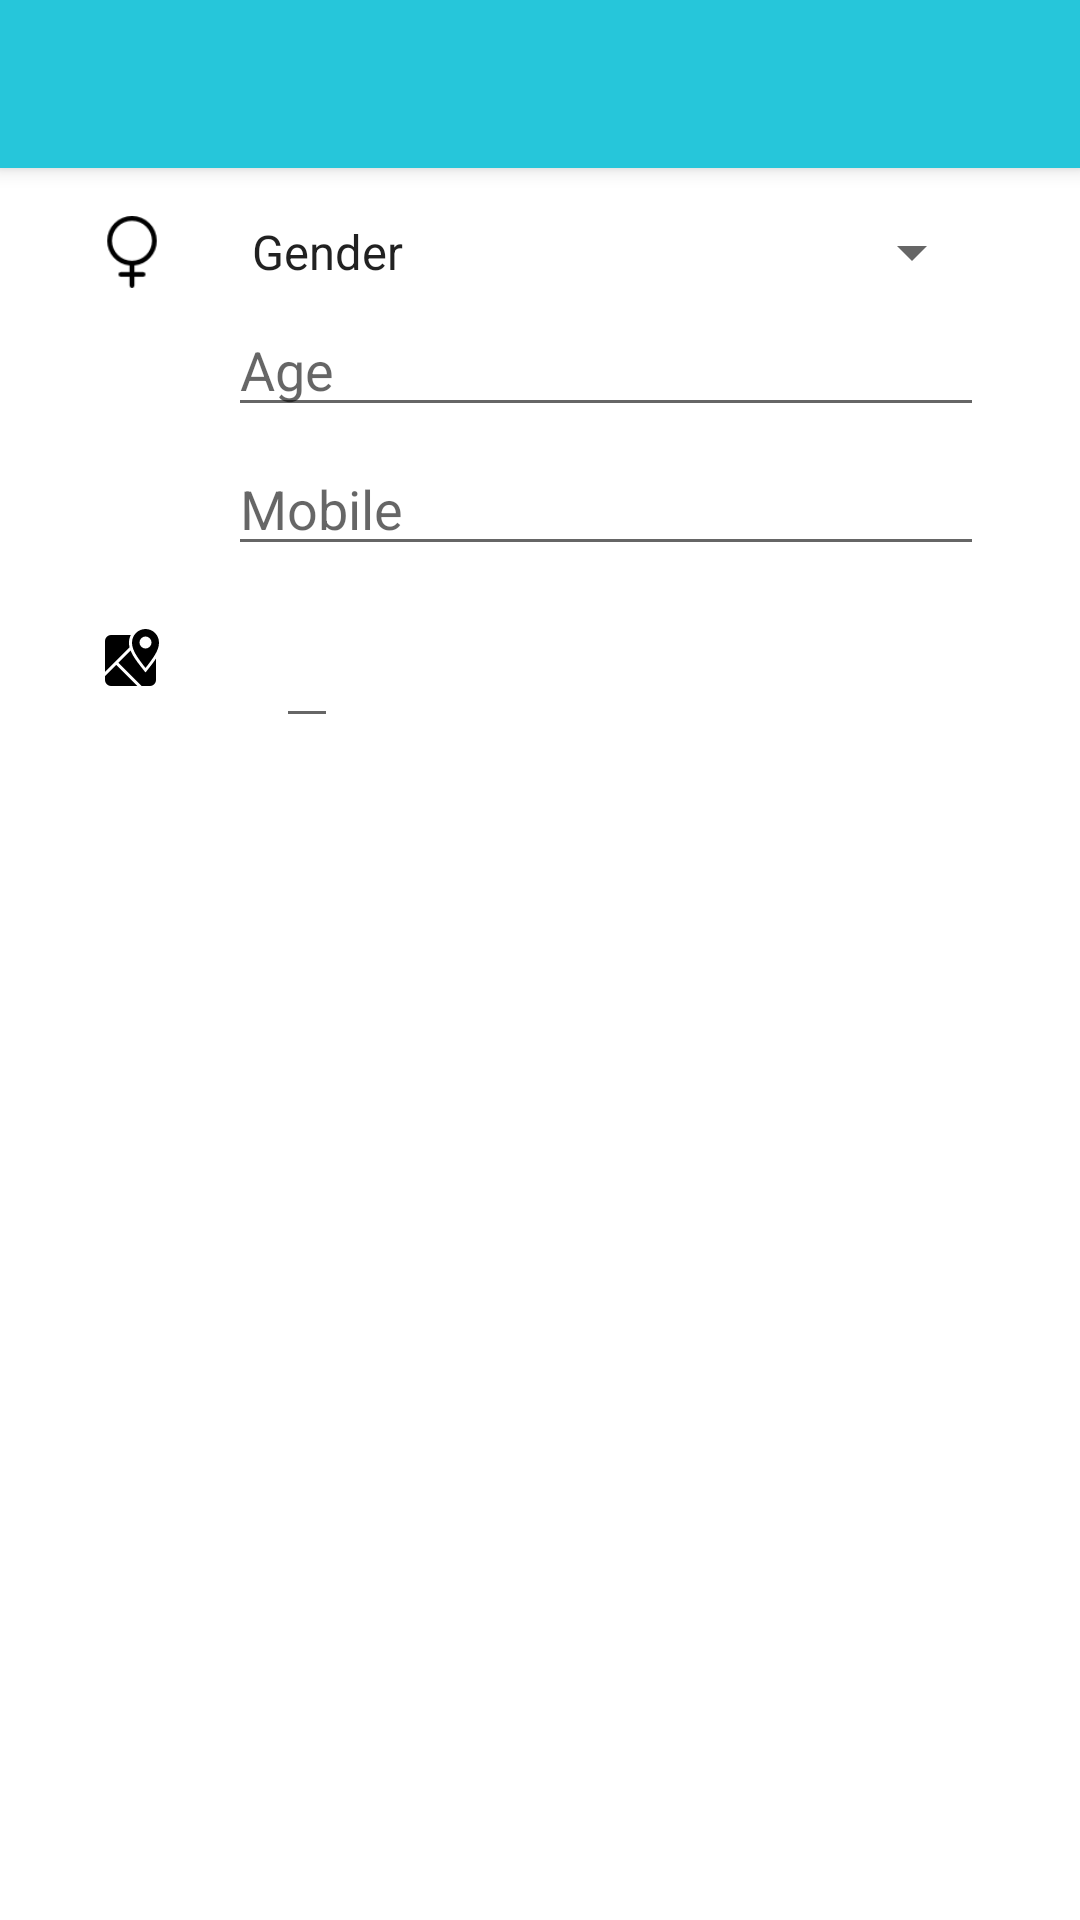

Where icons sit on this 1080 x 1920 app screen, as {"left": x1, "top": y1, "right": x2, "bottom": y2}:
google maps: {"left": 105, "top": 629, "right": 159, "bottom": 686}
